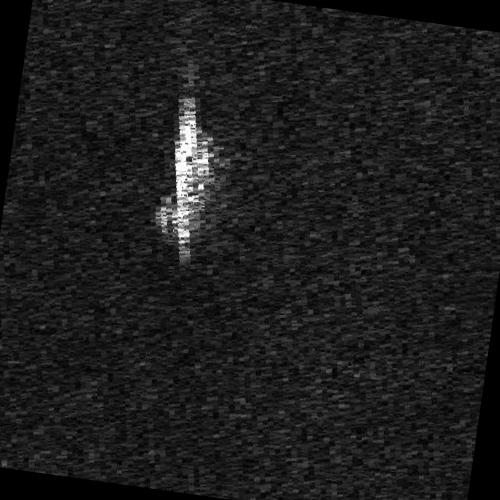ship: (157, 96, 212, 260)
